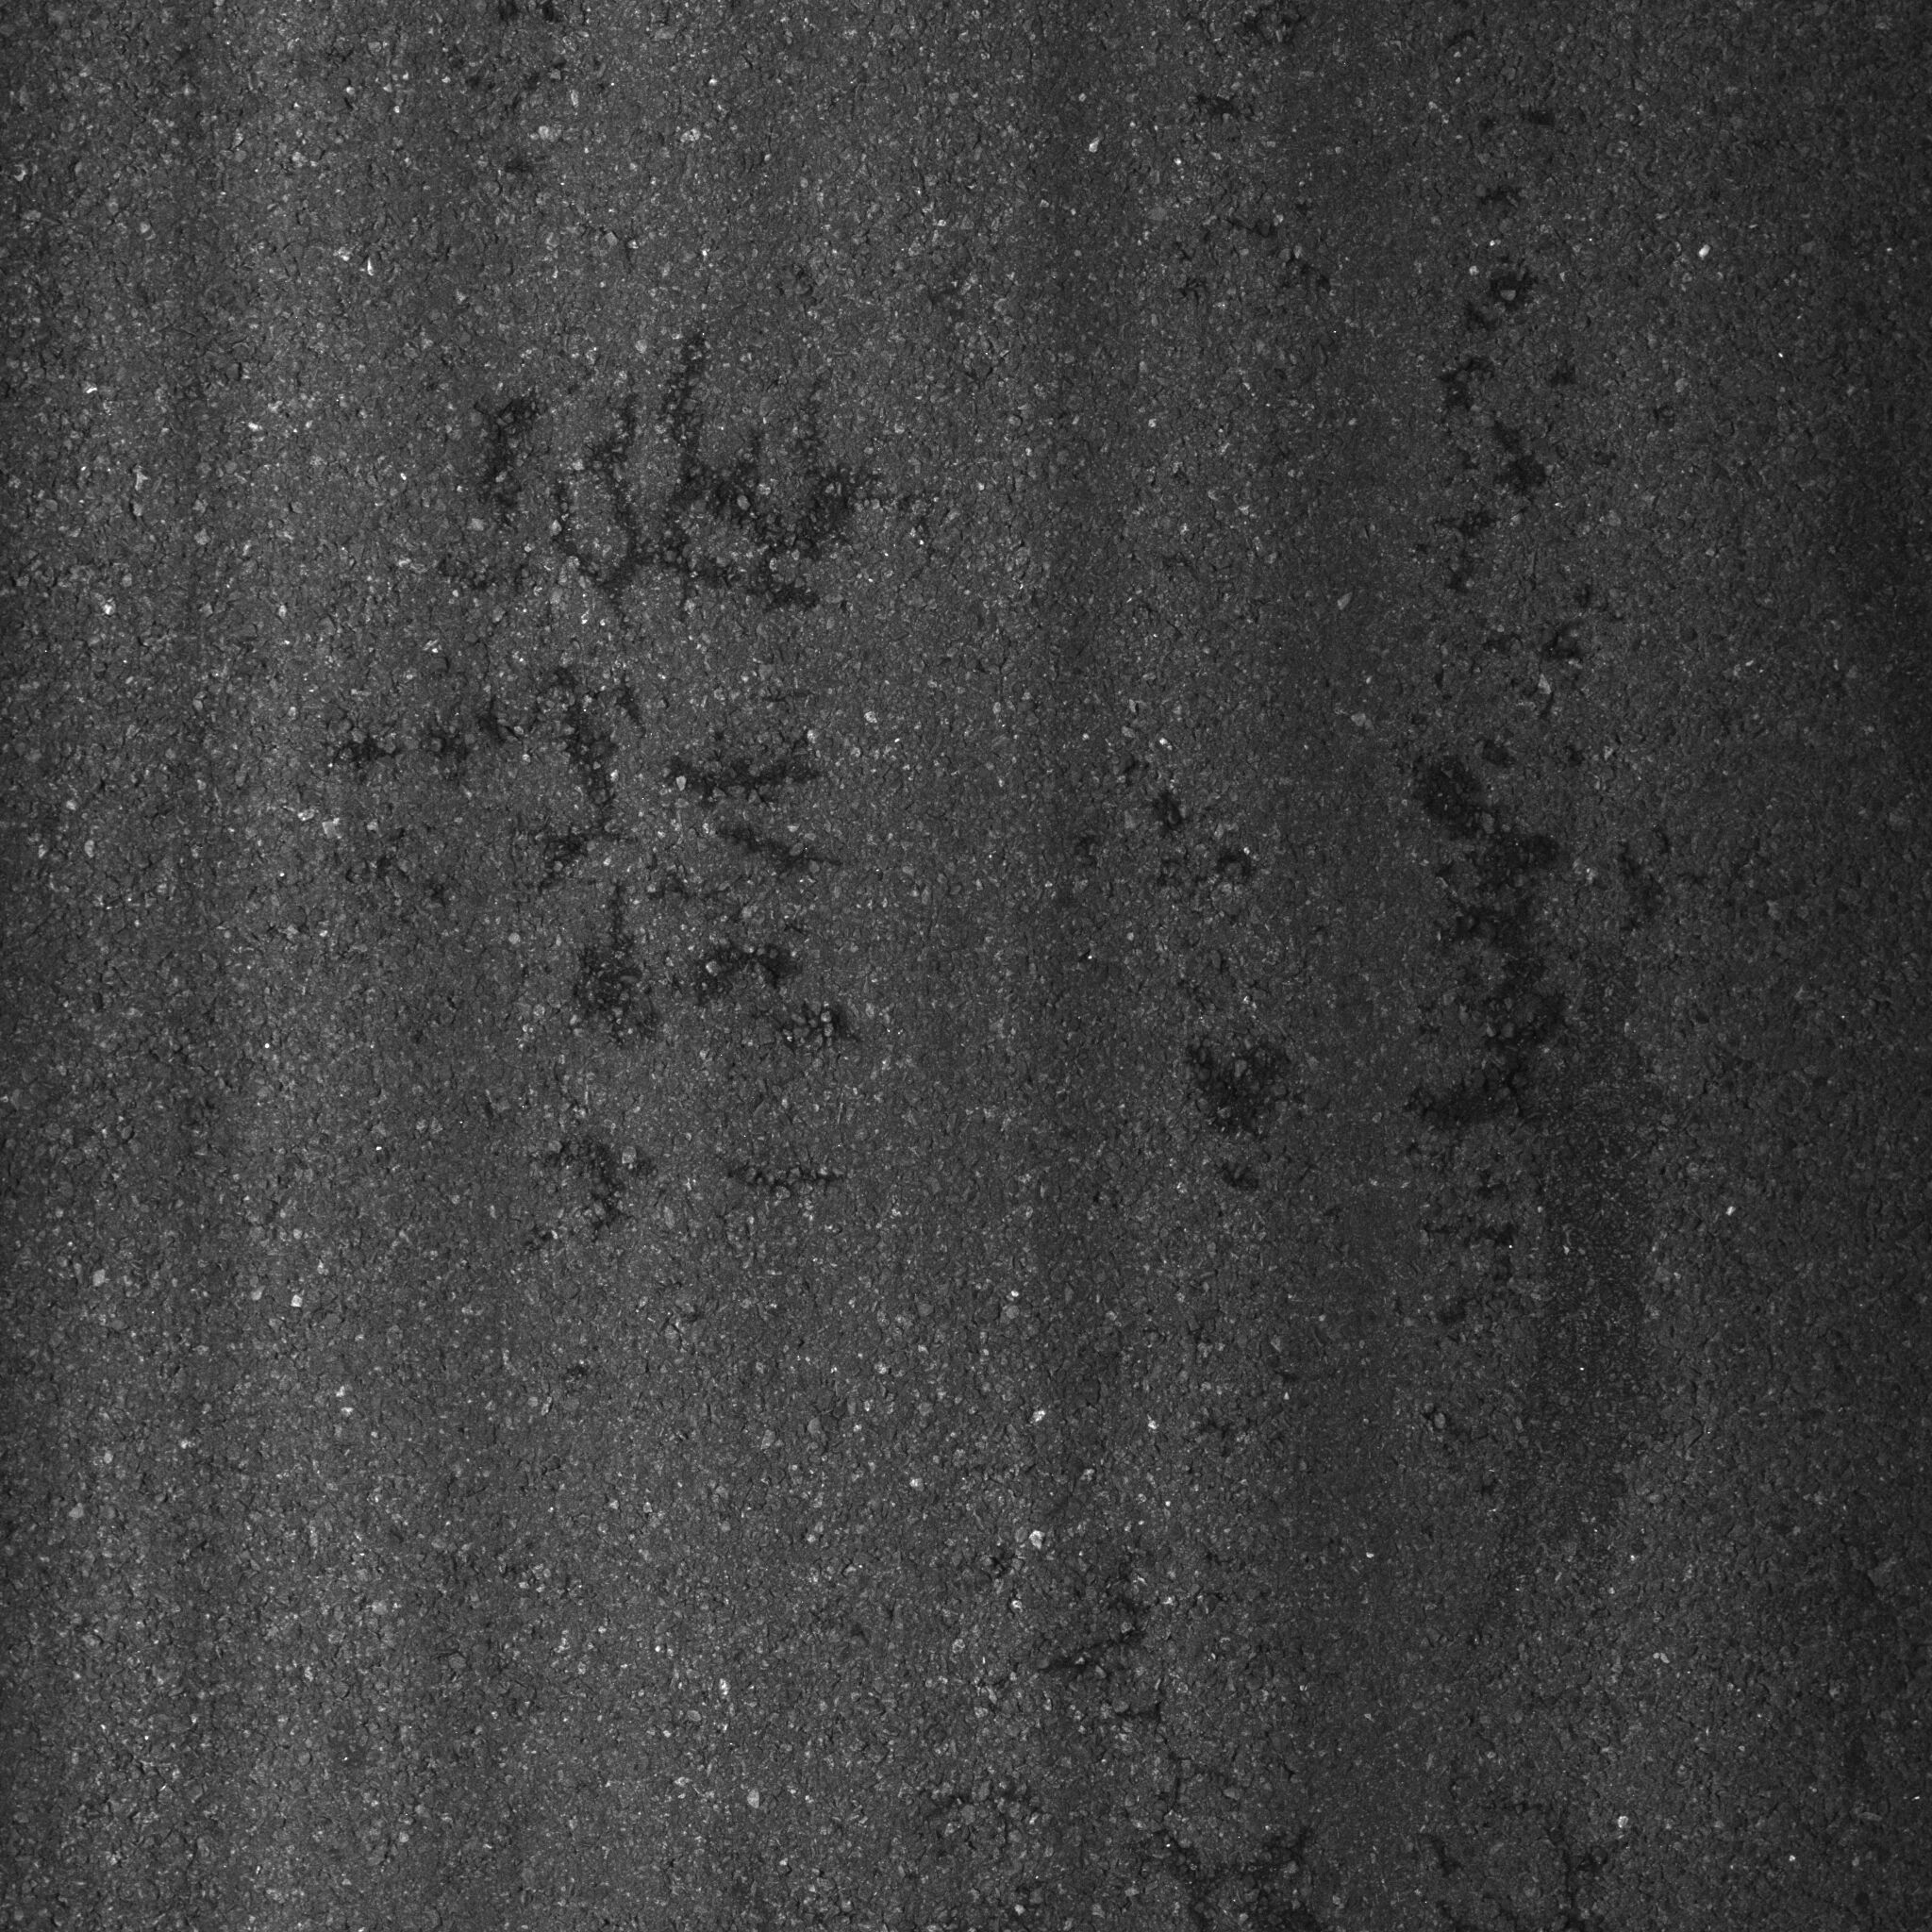alligator: (387, 345, 904, 1226)
